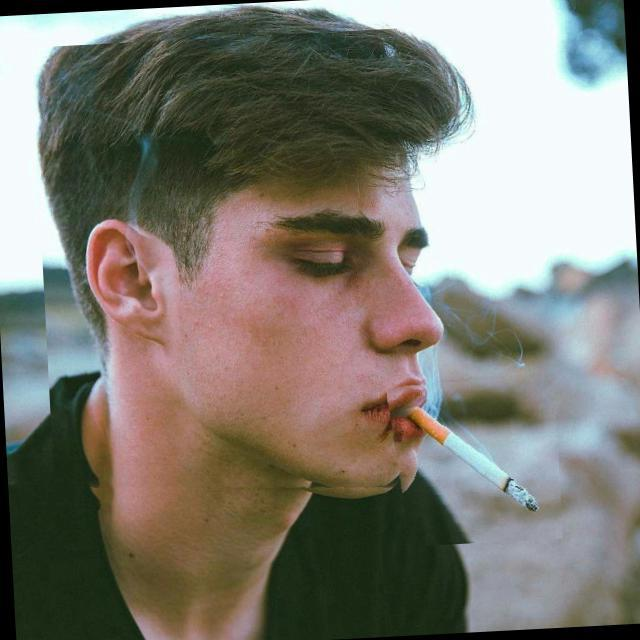cigarette: (386, 373, 562, 548)
